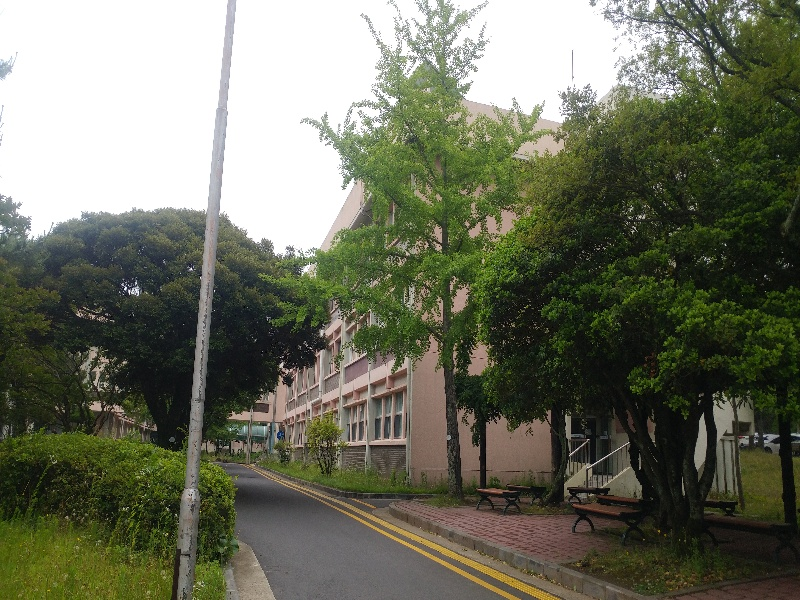College Of Education: (278, 100, 632, 475)
